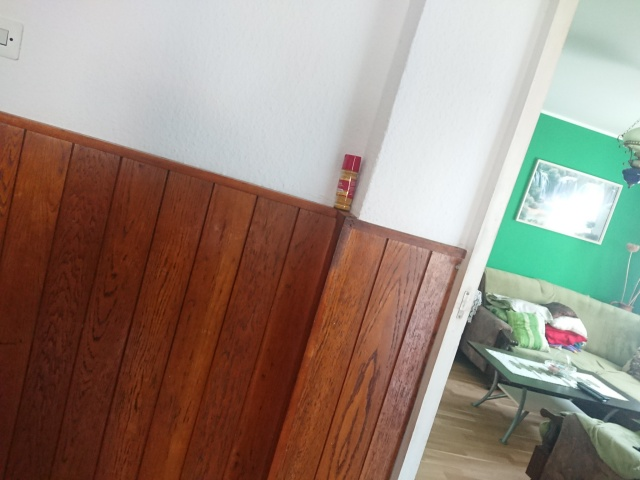Kotanyi Curry Spices Mix 70g: (332, 151, 363, 213)
